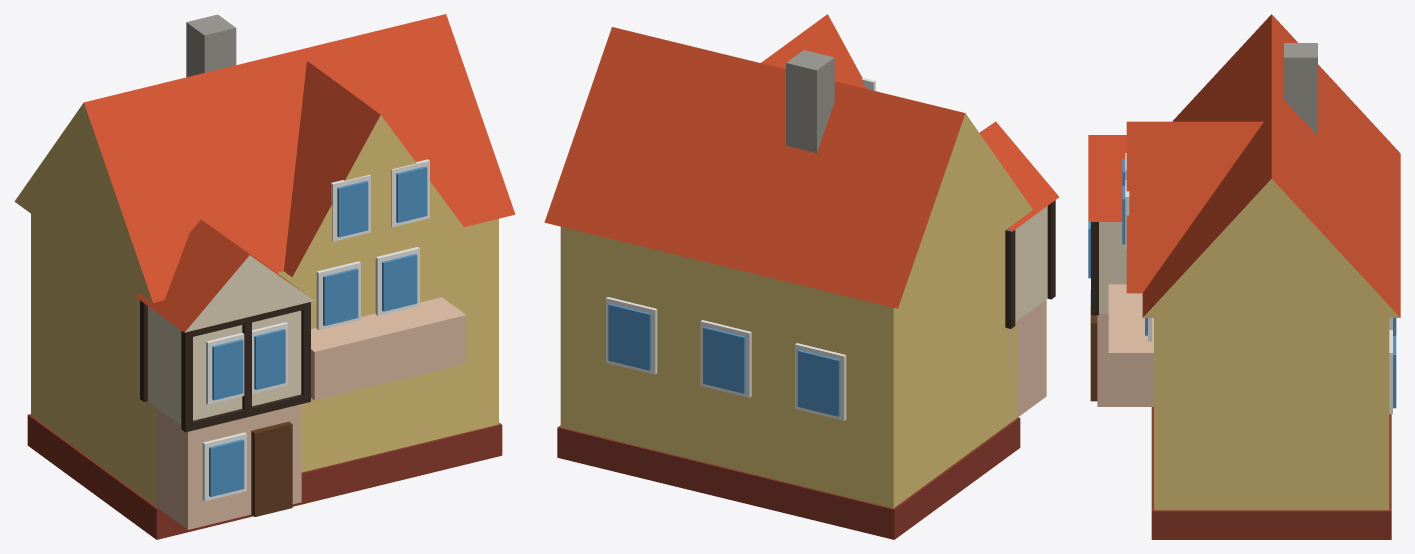
The model's file is 47_amalienau_villa_1.obj.
The picture shows the model from 3 angles, left to right: view 1: azimuth 30°, elevation 25°; view 2: azimuth 150°, elevation 25°; view 3: azimuth 270°, elevation 25°; orthographic projection. The views are drawn at different scales.
Visible parts, largest first — view 1: 47_amalienau_villa_1; view 2: 47_amalienau_villa_1; view 3: 47_amalienau_villa_1.
Boxes of the visible parts, x1,y1,x2,y2 form: 47_amalienau_villa_1: [14, 14, 515, 539]; 47_amalienau_villa_1: [544, 14, 1059, 539]; 47_amalienau_villa_1: [1088, 14, 1400, 539].
Size of the model in its own units: 1.72 by 1.92 by 1.38.
